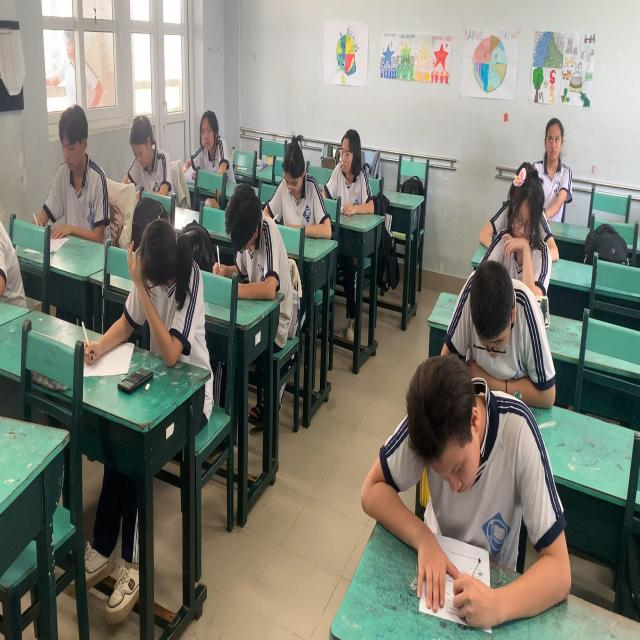not_cheating: (376, 350, 526, 610), (130, 212, 202, 378), (461, 247, 546, 385), (232, 202, 276, 312), (268, 150, 317, 236), (58, 95, 91, 222), (533, 113, 569, 219), (120, 108, 167, 180), (505, 182, 544, 257), (188, 109, 229, 160), (340, 126, 369, 194)
